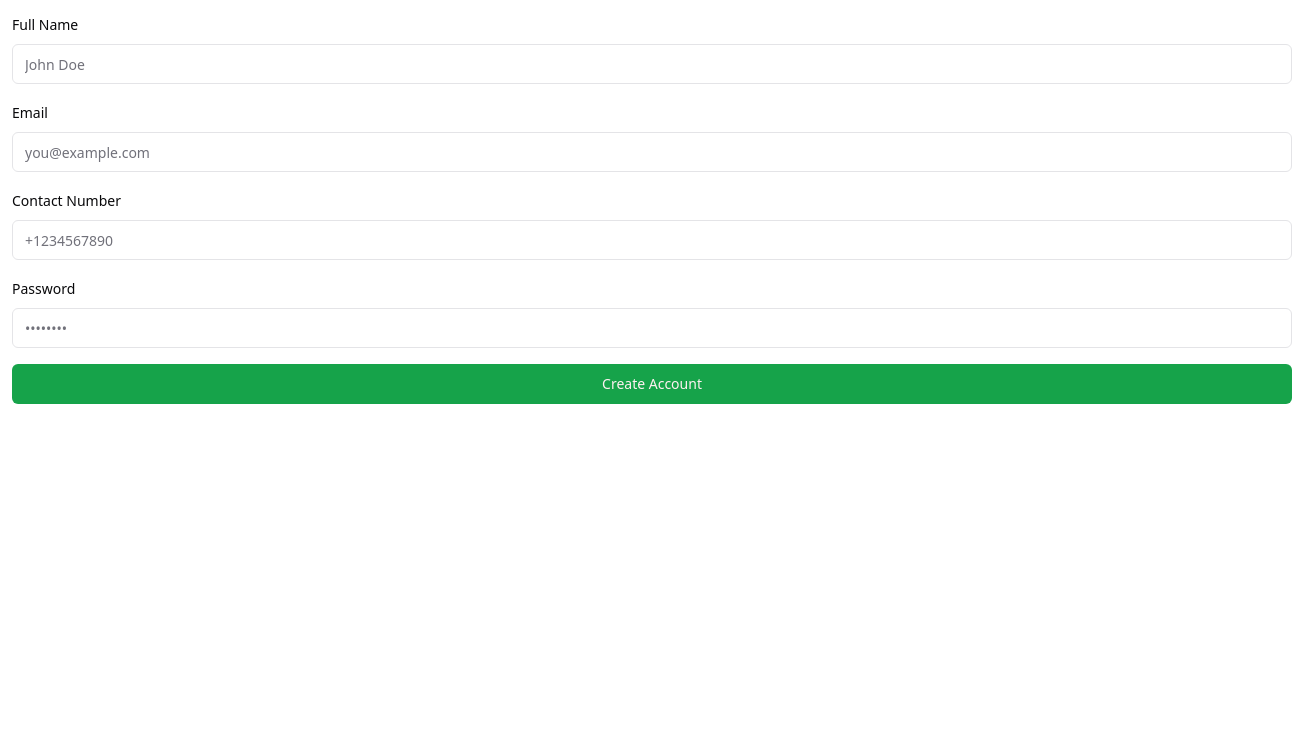
RegisterForm › should validate password requirements
Step 1. Type "12345" into the password field with placeholder "••••••••" → (652, 328), box [12, 308, 1292, 348]
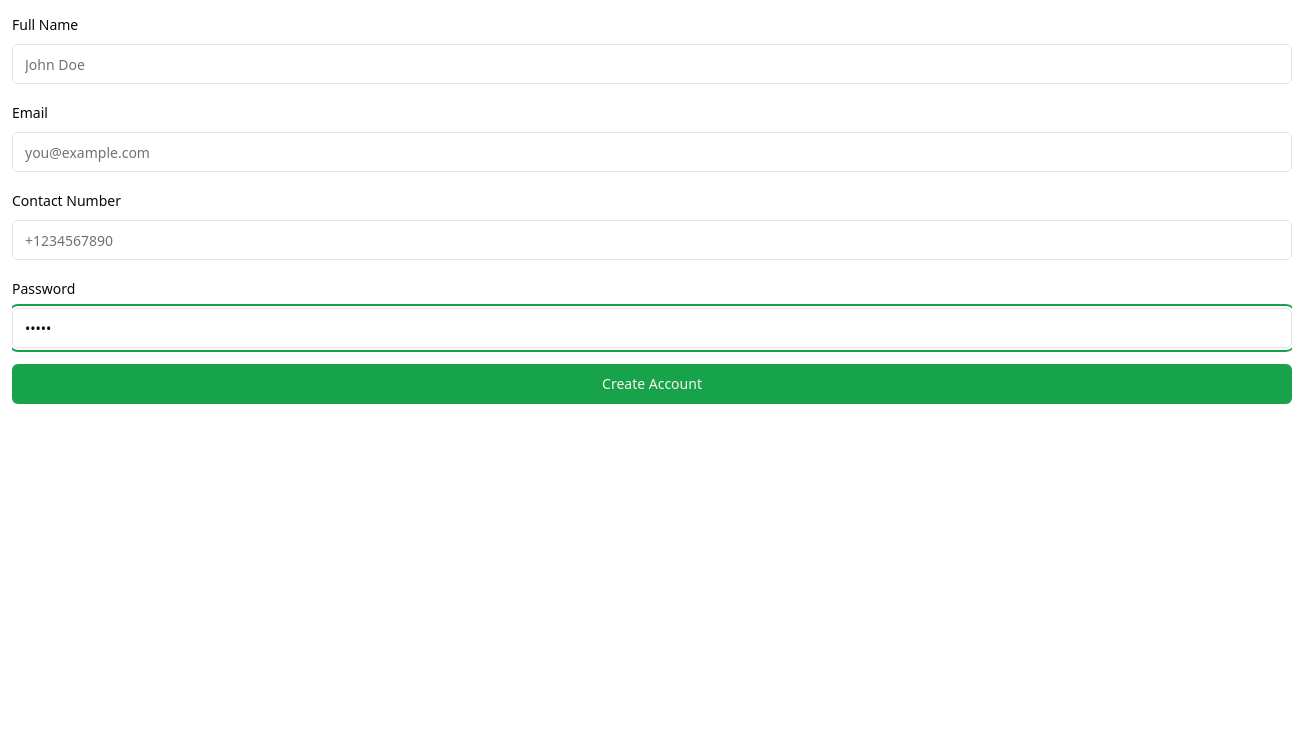
Step 2. Click the button "Create Account" → click(652, 384), box [12, 364, 1292, 404]
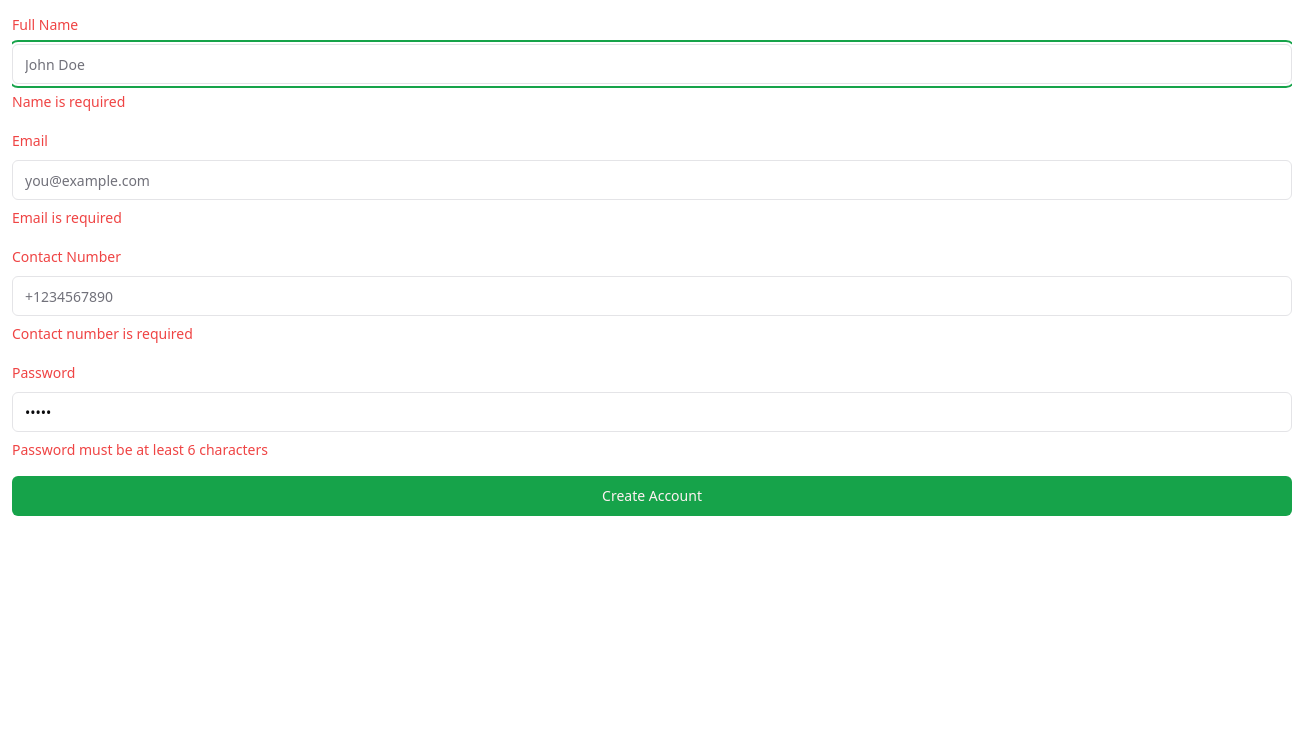
Check: the text "Password must be at least 6 characters" is shown, box [12, 440, 268, 459]
